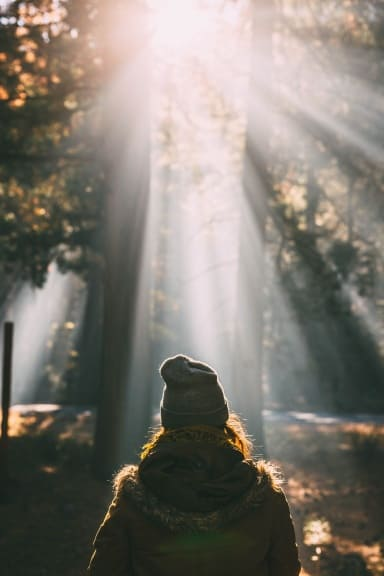person: (86, 351, 305, 576)
